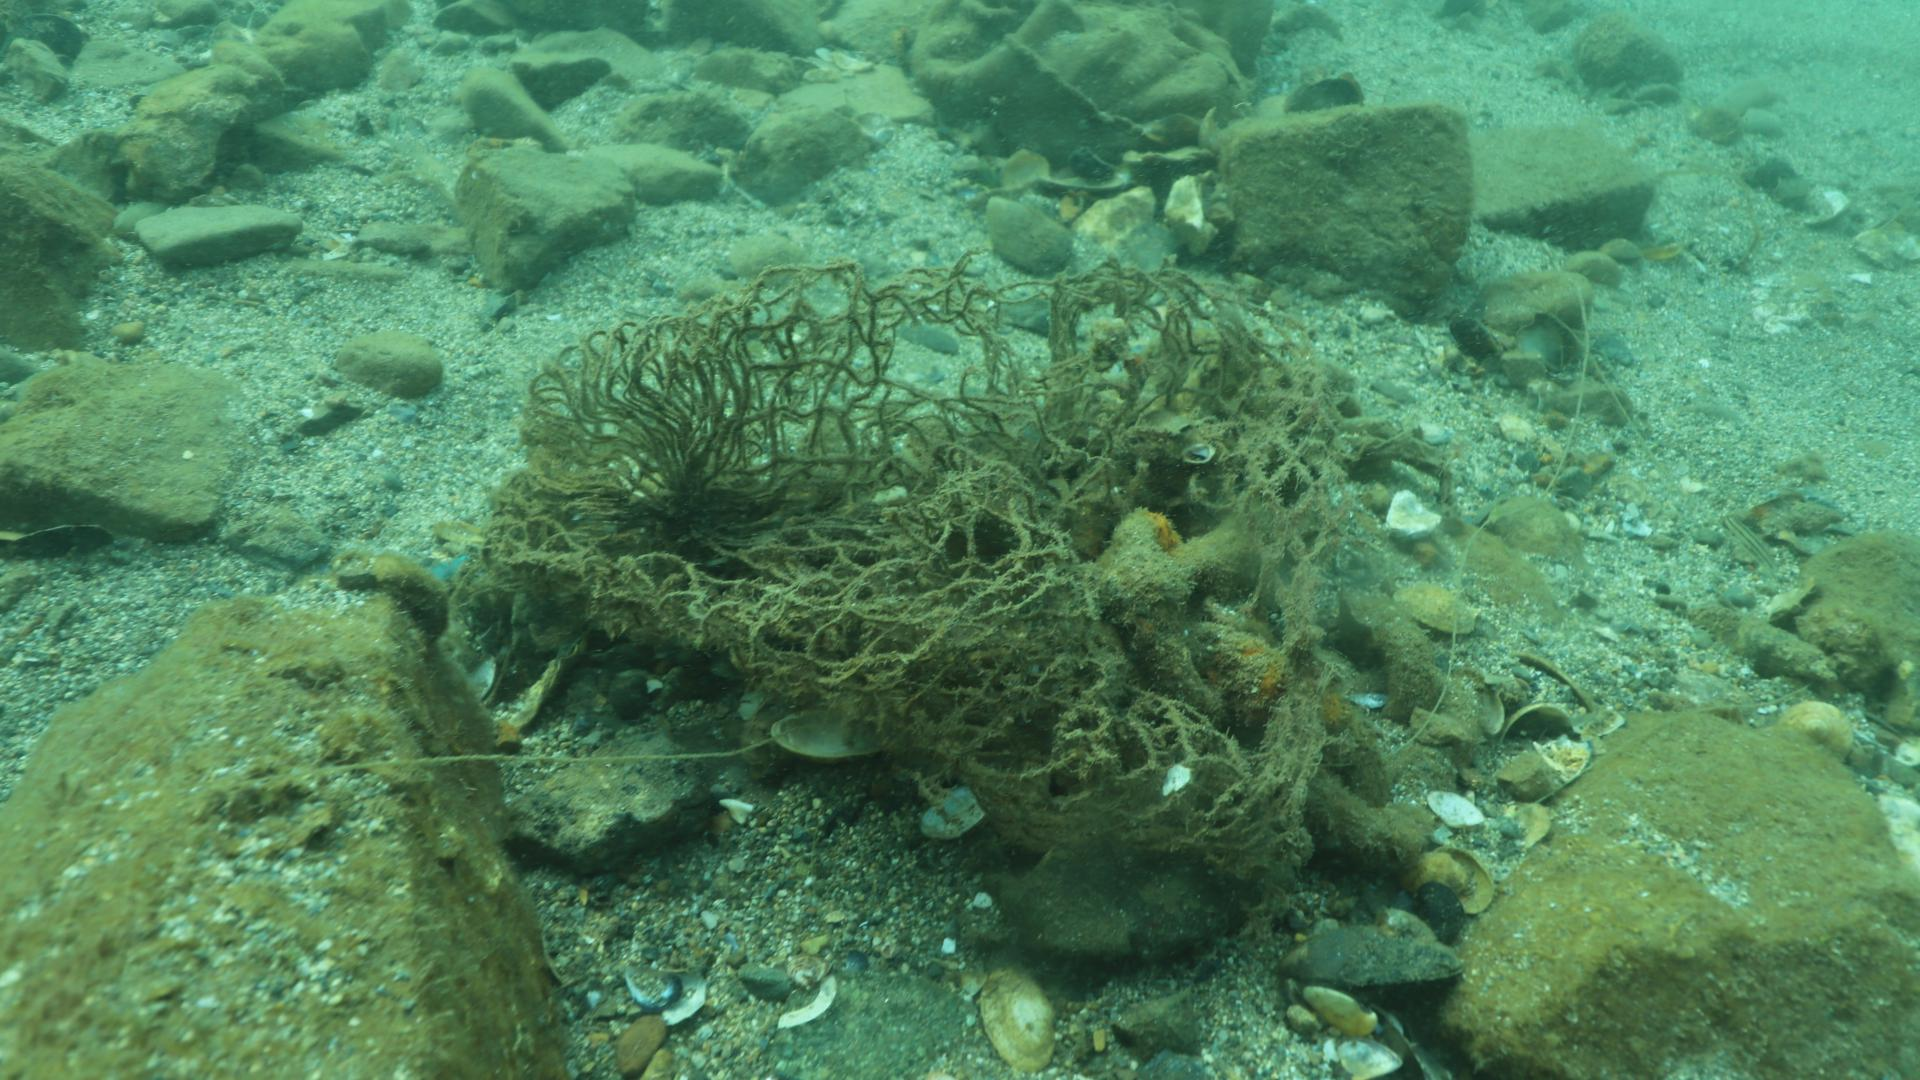fish net: (483, 247, 1354, 873)
